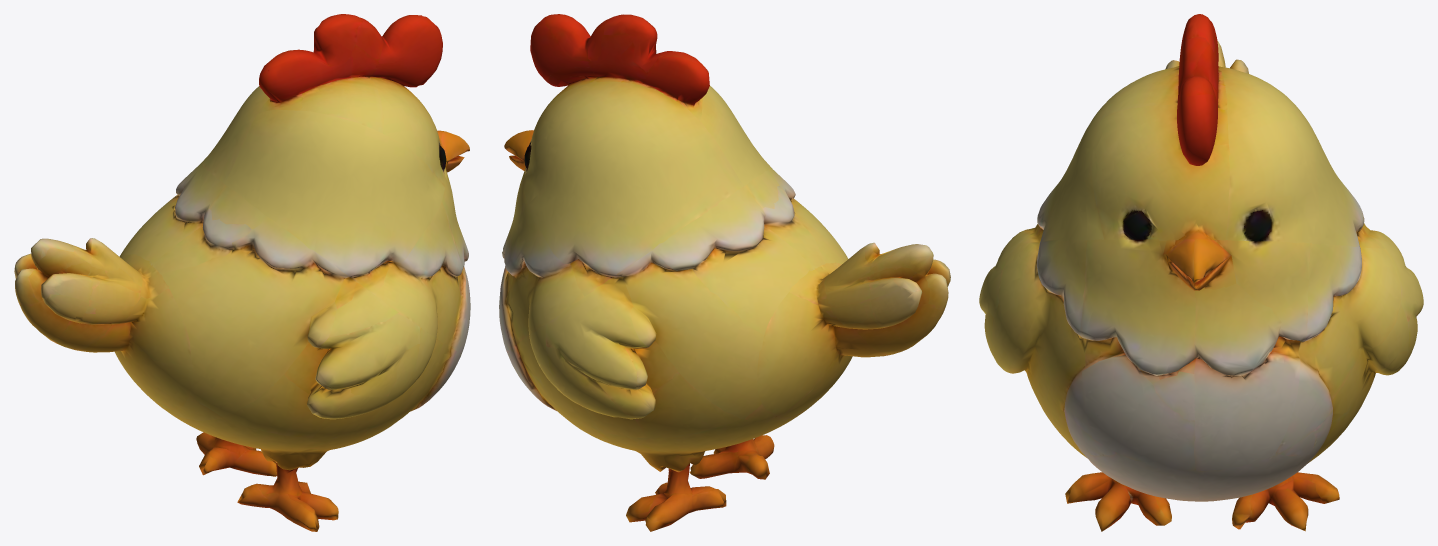
The model's file is chicken.glb.
3 views of the same model, side by side, from view 1: azimuth 30°, elevation 25°; view 2: azimuth 150°, elevation 25°; view 3: azimuth 270°, elevation 25° (orthographic). The views are drawn at different scales.
Parts seen in each view (by area): view 1: tripo_node_68929bbd-d091-4ba1-9e5b-dc339015cc4f; view 2: tripo_node_68929bbd-d091-4ba1-9e5b-dc339015cc4f; view 3: tripo_node_68929bbd-d091-4ba1-9e5b-dc339015cc4f.
Part boxes in pixels (x1,y1,x2,y2): tripo_node_68929bbd-d091-4ba1-9e5b-dc339015cc4f: (14, 14, 470, 531); tripo_node_68929bbd-d091-4ba1-9e5b-dc339015cc4f: (499, 14, 950, 531); tripo_node_68929bbd-d091-4ba1-9e5b-dc339015cc4f: (979, 14, 1423, 531).
Bounding box in the file's own units: 0.9974 × 0.9829 × 0.7361.
1 material, 1 textured.
